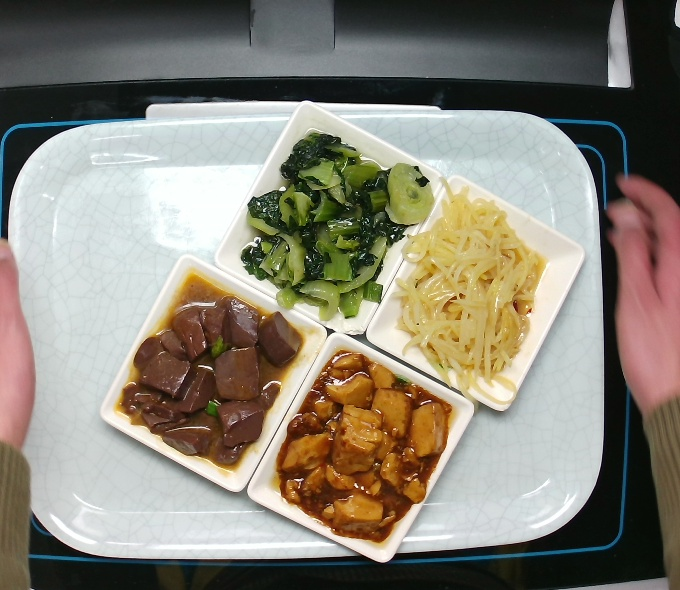wcq-MaPoDouFu: (268, 354, 462, 540)
wcq-NiuXue: (117, 278, 300, 469)
wcq-TuDouSi: (392, 178, 547, 399)
wcq-YouDongCai: (239, 127, 433, 313)
